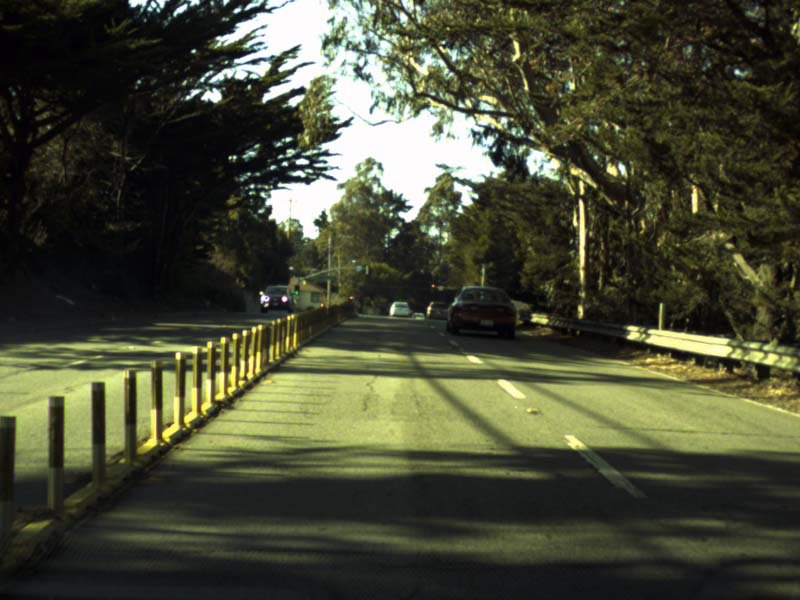Green: (294, 285, 299, 296)
Red: (429, 282, 435, 294)
